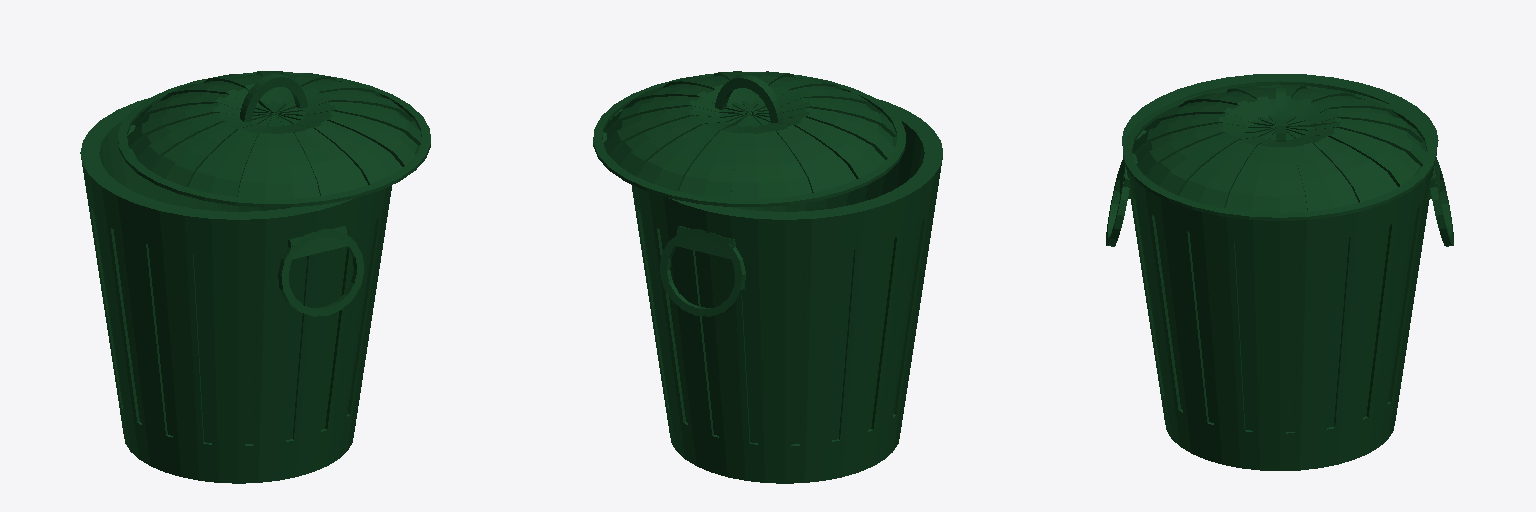
The model's file is TrashCan_517.obj.
3 renders of one model, left to right at view 1: azimuth 30°, elevation 25°; view 2: azimuth 150°, elevation 25°; view 3: azimuth 270°, elevation 25°, orthographic.
Visible parts, largest first — view 1: Cylinder001, Sphere001, Tube002, Tube001, ChamferBox001; view 2: Cylinder001, Sphere001, Tube003, Tube001, ChamferBox002; view 3: Cylinder001, Sphere001, Tube003, Tube002, Tube001.
Part boxes in pixels (bbox=[...]): Cylinder001: bbox=[80, 98, 391, 483]; Sphere001: bbox=[118, 71, 430, 207]; Tube002: bbox=[278, 229, 364, 316]; Tube001: bbox=[240, 74, 307, 121]; ChamferBox001: bbox=[288, 226, 348, 258]; Cylinder001: bbox=[632, 99, 942, 483]; Sphere001: bbox=[593, 71, 905, 206]; Tube003: bbox=[660, 229, 745, 316]; Tube001: bbox=[715, 75, 782, 122]; ChamferBox002: bbox=[675, 226, 735, 258]; Cylinder001: bbox=[1122, 74, 1438, 470]; Sphere001: bbox=[1123, 84, 1436, 220]; Tube003: bbox=[1430, 158, 1453, 246]; Tube002: bbox=[1106, 158, 1129, 246]; Tube001: bbox=[1276, 87, 1285, 141].
Size of the model in its own units: 38 by 41.16 by 37.12.